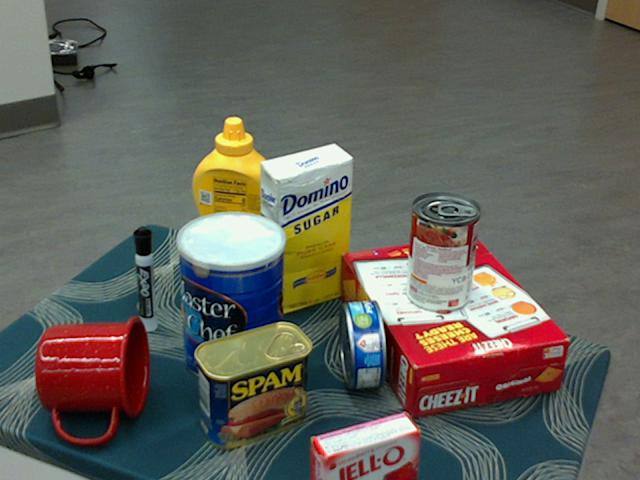cracker_box: (338, 237, 568, 414)
gelatin_box: (307, 412, 418, 479)
large_marker: (133, 225, 154, 331)
master_chef_can: (177, 212, 286, 387)
mug: (35, 315, 149, 443)
mustard_bottle: (191, 117, 277, 285)
potted_meat_can: (194, 322, 312, 448)
sugar_box: (259, 145, 353, 316)
tomato_soup_can: (404, 194, 480, 314)
tuna_fish_can: (339, 299, 386, 388)
